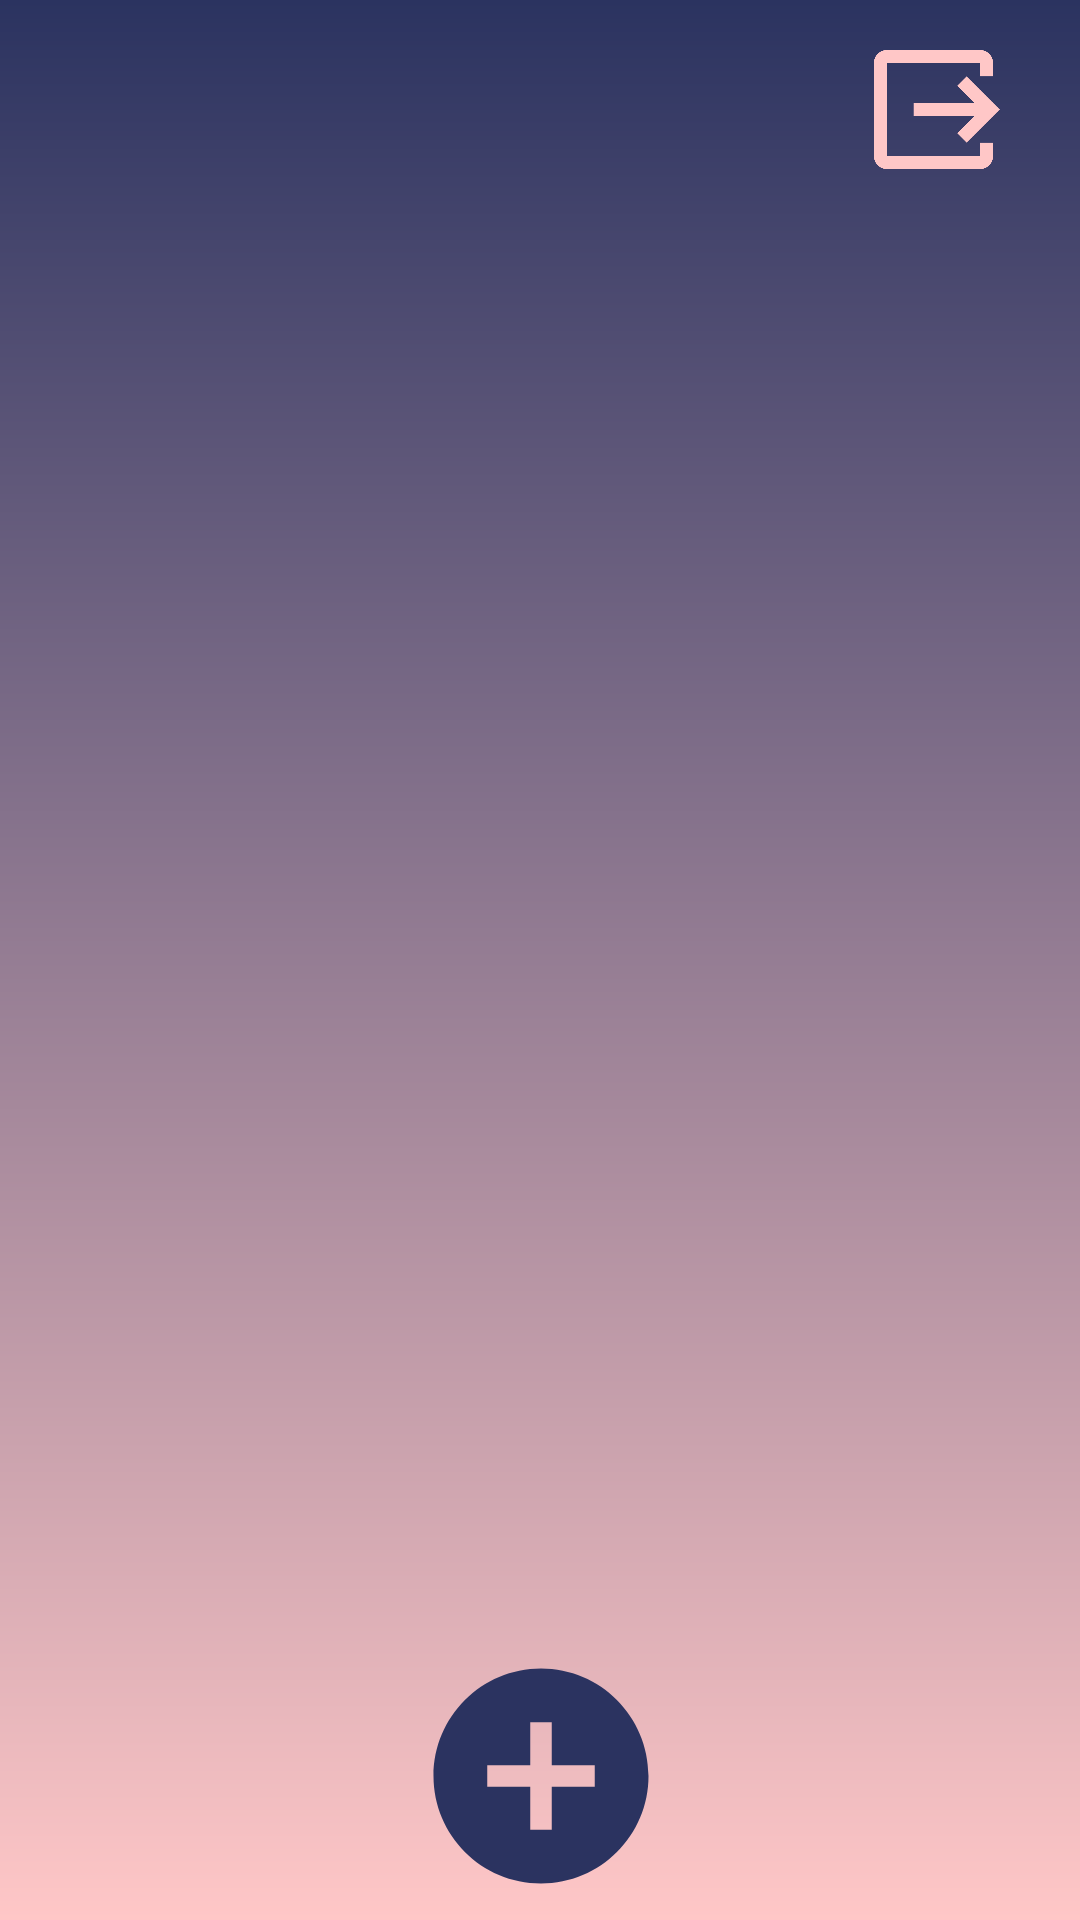

Screen size 1080px×1920px. Icon name, then its box in pixels as box(x1, y1, x2, y2):
output: box(854, 50, 1013, 189)
